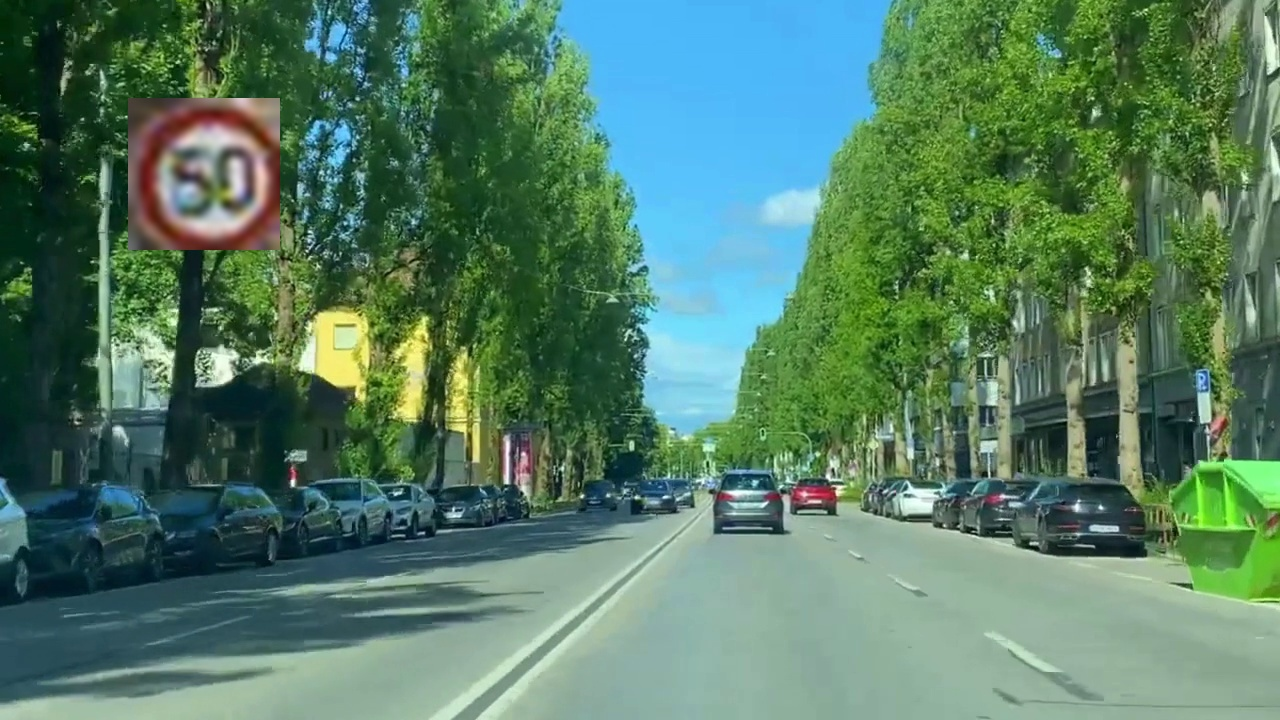Speed 50: (128, 98, 280, 250)
